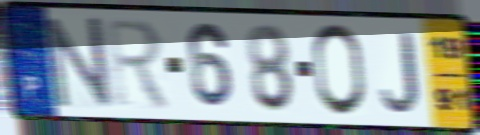6: (184, 19, 235, 114)
8: (245, 22, 296, 116)
J: (379, 30, 422, 115)
N: (43, 15, 115, 111)
O: (309, 21, 369, 120)
R: (103, 16, 174, 113)
